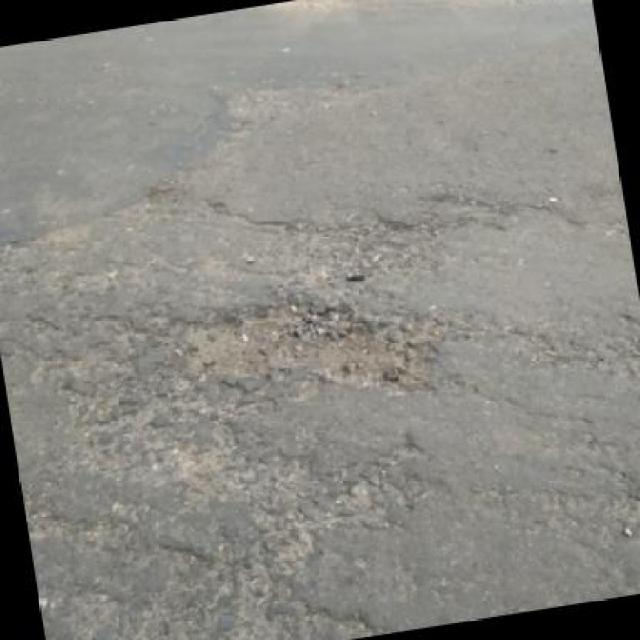pothole: (170, 273, 445, 433), (288, 198, 424, 291)
